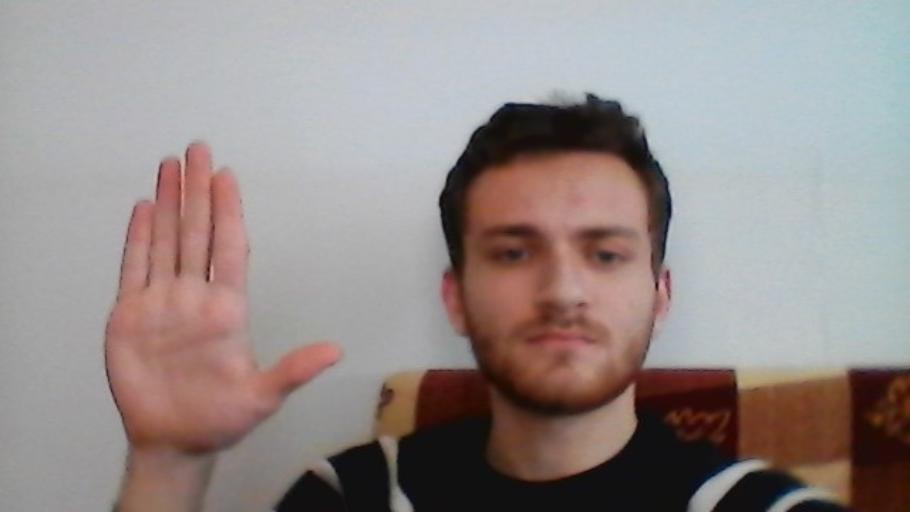stop: (99, 136, 348, 458)
